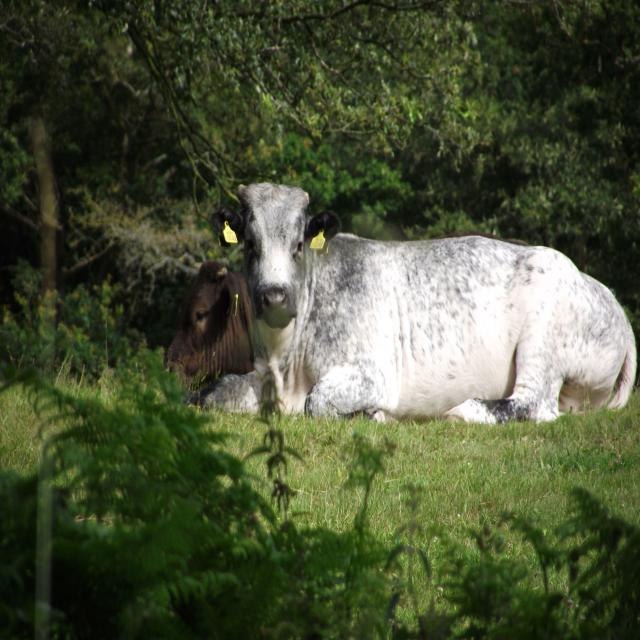cow: (189, 183, 636, 423)
